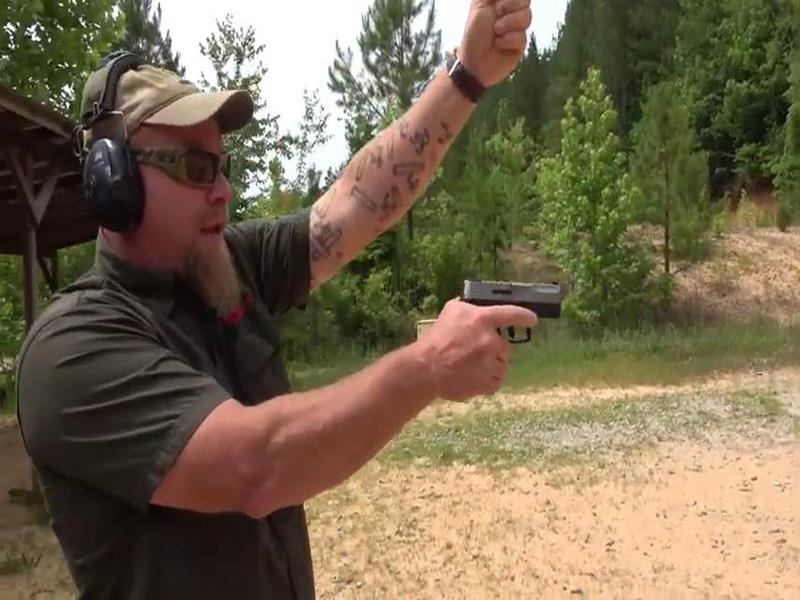Pistola: (442, 258, 570, 387)
